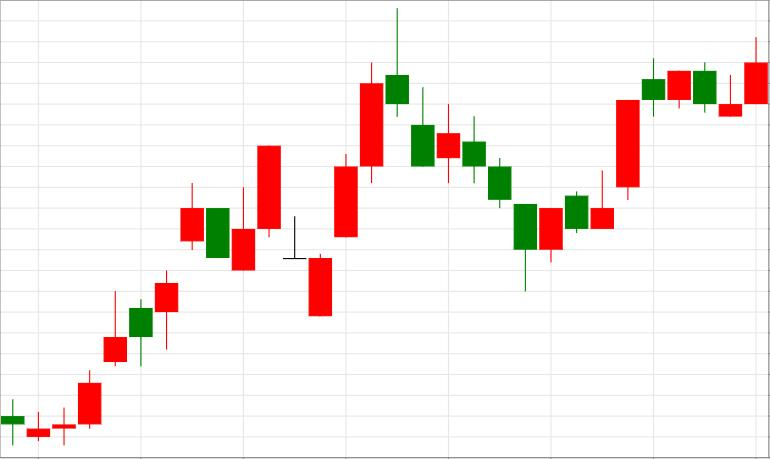shooting_star_fall: (283, 7, 409, 317), (27, 291, 127, 445)
